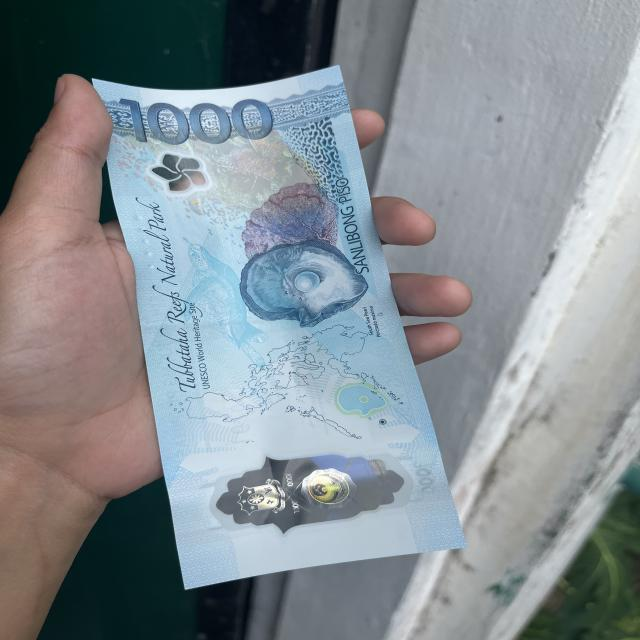clear_window: (163, 430, 454, 551)
security_thread: (139, 294, 400, 348)
